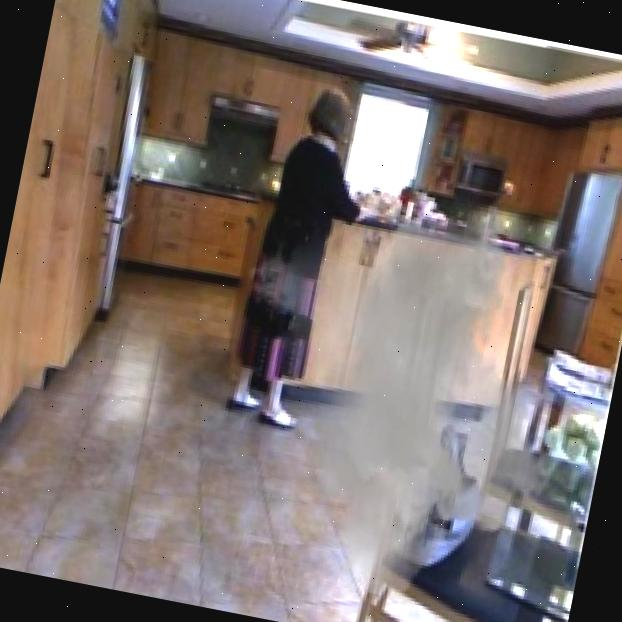smoke: (189, 165, 609, 622)
